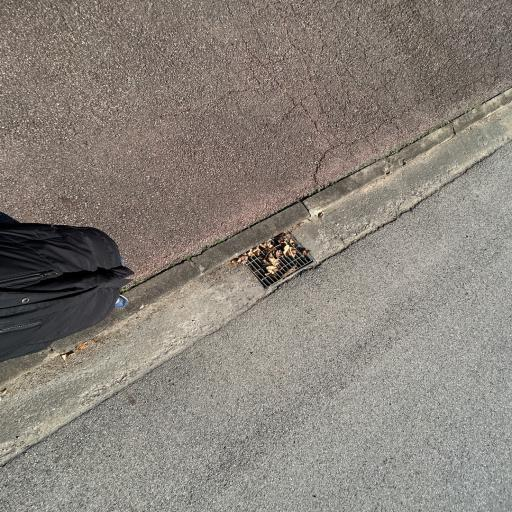debris: (239, 230, 298, 277), (281, 265, 299, 278)
drain: (239, 230, 316, 289)
